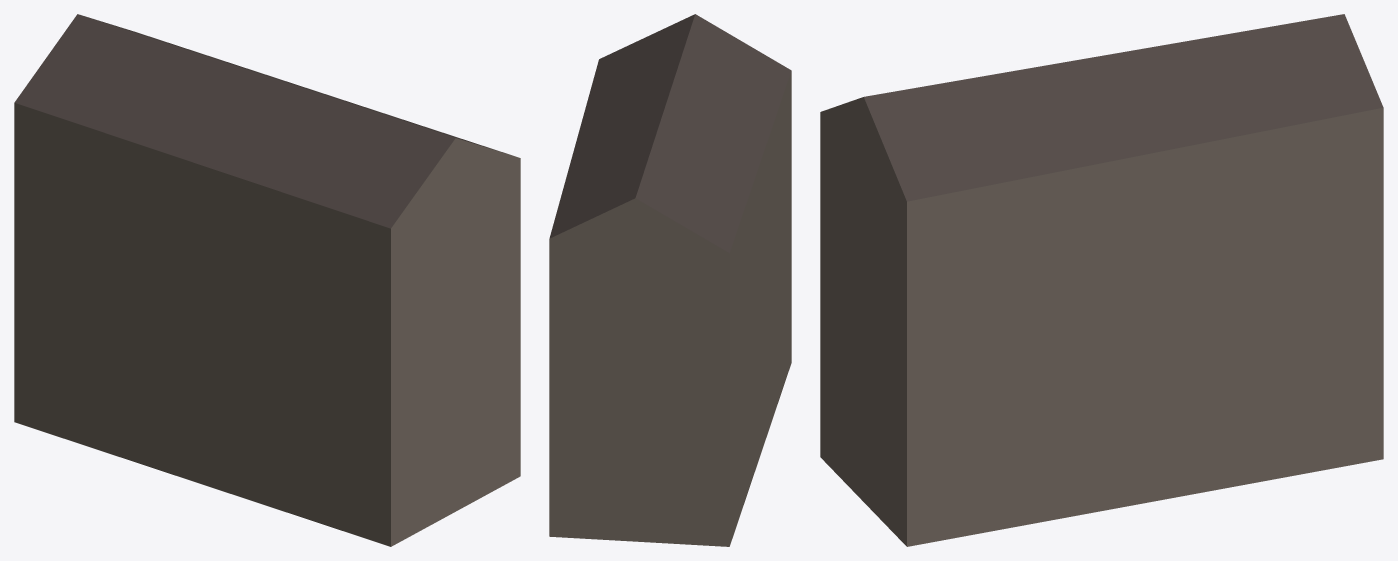
The picture shows the model from 3 angles, left to right: view 1: azimuth 30°, elevation 25°; view 2: azimuth 150°, elevation 25°; view 3: azimuth 270°, elevation 25°; orthographic projection. The views are drawn at different scales.
Parts seen in each view (by area): view 1: HP-w783664819; view 2: HP-w783664819; view 3: HP-w783664819.
Boxes of the visible parts, x1,y1,x2,y2 form: HP-w783664819: [14, 14, 520, 546]; HP-w783664819: [549, 14, 791, 546]; HP-w783664819: [820, 14, 1383, 546].
Size of the model in its own units: 6.39 by 7.04 by 8.87.
